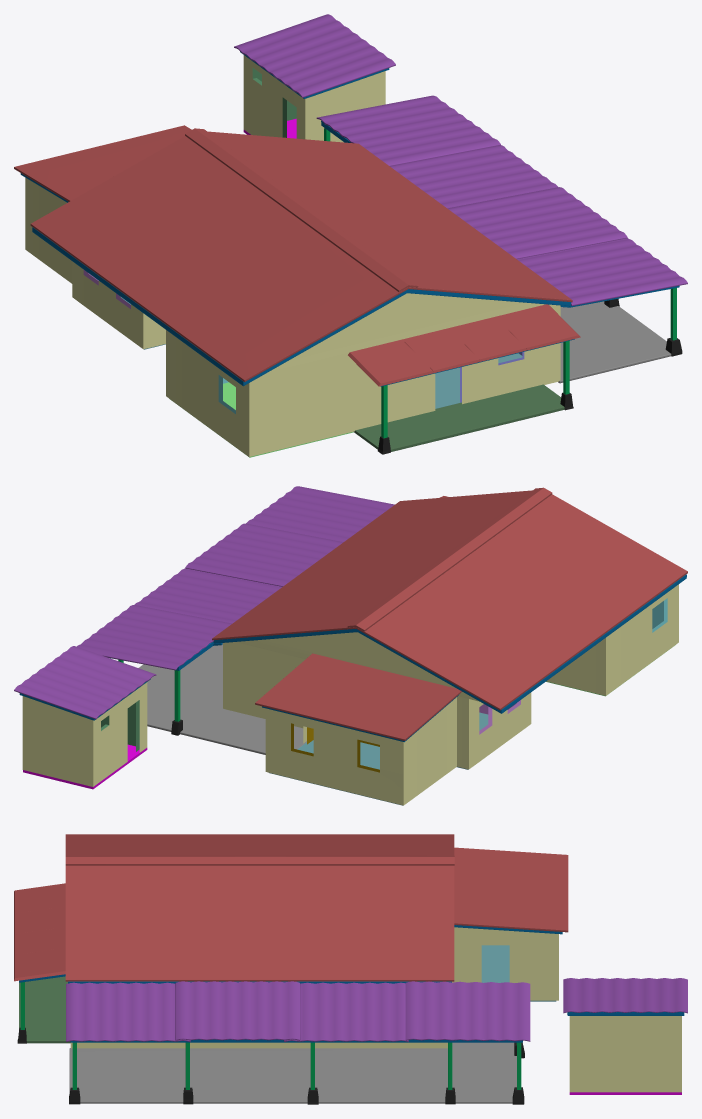
File: FINAL_CasaAvo.fbx
The picture shows the model from 3 angles, top to bottom: view 1: azimuth 30°, elevation 25°; view 2: azimuth 150°, elevation 25°; view 3: azimuth 270°, elevation 25°; orthographic projection. The views are drawn at different scales.
Parts seen in each view (by area): view 1: TelhMain_Telhado, EXT_Casa, TelhFrente_Telhas, TelhBagunca_Telha2, TelhBagunca_Telha4, TelhBagunca_Telha, TelhBagunca_Telha1, TelhMain_ParedeFrente, TelhBagunca_Telha3, EXT_QBagunça, Chao_Frente, Chao_Garagem (+5 smaller); view 2: TelhMain_Telhado, EXT_Casa, TelhAtras_Telhado, EXT_QBagunça, Chao_Garagem, TelhBagunca_Telha4, TelhBagunca_Telha2, TelhBagunca_Telha, TelhBagunca_Telha1, TelhBagunca_Telha3, TelhMain_ParedeFundo, TelhMain_DetalheTopo (+5 smaller); view 3: TelhMain_Telhado, Chao_Garagem, TelhAtras_Telhado, EXT_QBagunça, EXT_Casa, TelhBagunca_Telha4, TelhBagunca_Telha2, TelhBagunca_Telha1, TelhBagunca_Telha3, TelhFrente_Telhas, TelhBagunca_Telha, TelhMain_DetalheTopo (+7 smaller).
Boxes of the visible parts, bbox=[...] form: TelhMain_Telhado: bbox=[30, 131, 572, 381]; EXT_Casa: bbox=[25, 177, 560, 456]; TelhFrente_Telhas: bbox=[348, 304, 580, 386]; TelhBagunca_Telha2: bbox=[447, 187, 627, 259]; TelhBagunca_Telha4: bbox=[316, 95, 500, 166]; TelhBagunca_Telha: bbox=[234, 14, 395, 97]; TelhBagunca_Telha1: bbox=[517, 238, 687, 305]; TelhMain_ParedeFrente: bbox=[268, 293, 545, 372]; TelhBagunca_Telha3: bbox=[390, 145, 558, 208]; EXT_QBagunça: bbox=[243, 55, 385, 142]; Chao_Frente: bbox=[354, 384, 564, 451]; Chao_Garagem: bbox=[558, 301, 671, 383]; TelhMain_Telhado: bbox=[212, 490, 687, 710]; EXT_Casa: bbox=[223, 584, 678, 805]; TelhAtras_Telhado: bbox=[255, 653, 461, 740]; EXT_QBagunça: bbox=[22, 682, 147, 786]; Chao_Garagem: bbox=[138, 643, 306, 754]; TelhBagunca_Telha4: bbox=[77, 605, 231, 670]; TelhBagunca_Telha2: bbox=[185, 523, 343, 586]; TelhBagunca_Telha: bbox=[14, 646, 156, 719]; TelhBagunca_Telha1: bbox=[246, 486, 394, 541]; TelhBagunca_Telha3: bbox=[134, 568, 281, 623]; TelhMain_ParedeFundo: bbox=[236, 632, 479, 701]; TelhMain_DetalheTopo: bbox=[347, 487, 552, 631]; TelhMain_Telhado: bbox=[65, 834, 454, 981]; Chao_Garagem: bbox=[69, 1042, 516, 1103]; TelhAtras_Telhado: bbox=[454, 847, 568, 932]; EXT_QBagunça: bbox=[569, 1016, 681, 1092]; EXT_Casa: bbox=[70, 927, 558, 1048]; TelhBagunca_Telha4: bbox=[405, 981, 530, 1041]; TelhBagunca_Telha2: bbox=[175, 981, 300, 1040]; TelhBagunca_Telha1: bbox=[66, 982, 190, 1041]; TelhBagunca_Telha3: bbox=[284, 982, 408, 1041]; TelhFrente_Telhas: bbox=[14, 883, 65, 981]; TelhBagunca_Telha: bbox=[563, 978, 687, 1013]; TelhMain_DetalheTopo: bbox=[65, 855, 454, 865].
Bounding box in the file's own units: 162 × 48.26 × 235.
